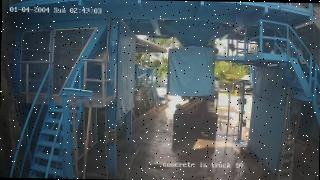cement_mixer_truck: (173, 76, 218, 132)
